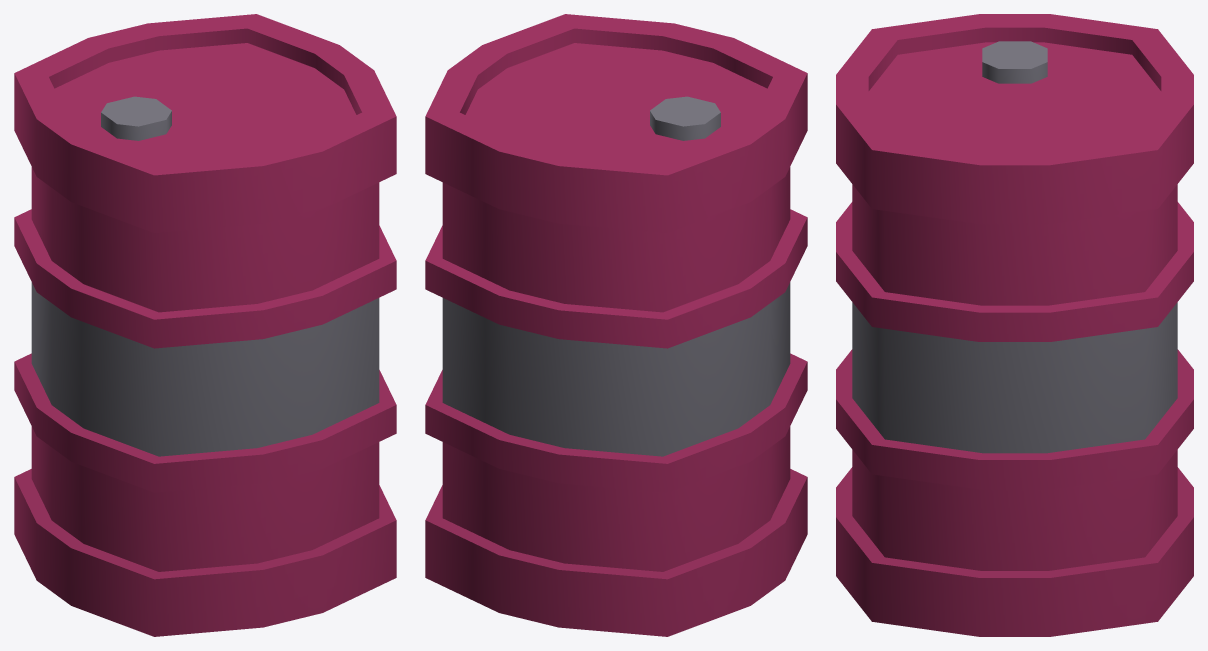
File: barrel.glb
The picture shows the model from 3 angles, left to right: view 1: azimuth 30°, elevation 25°; view 2: azimuth 150°, elevation 25°; view 3: azimuth 270°, elevation 25°; orthographic projection. The views are drawn at different scales.
Parts seen in each view (by area): view 1: barrel; view 2: barrel; view 3: barrel.
Boxes of the visible parts, x1,y1,x2,y2 form: barrel: (14, 14, 396, 636); barrel: (425, 14, 807, 636); barrel: (836, 14, 1193, 636).
Bounding box in the file's own units: 0.2365 × 0.344 × 0.2365.
